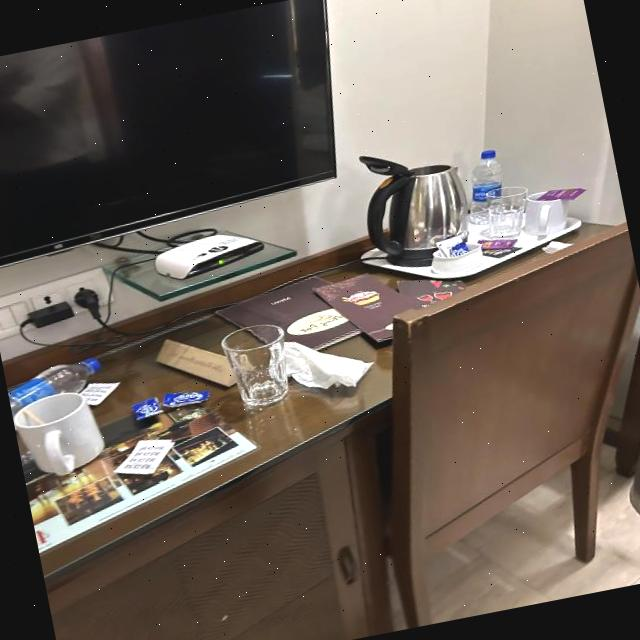chair: (393, 227, 639, 628), (113, 377, 213, 491)
mess: (264, 331, 369, 408), (474, 214, 592, 278), (119, 370, 212, 440), (61, 352, 126, 416), (421, 232, 486, 286)
messy_table: (3, 191, 617, 640)
